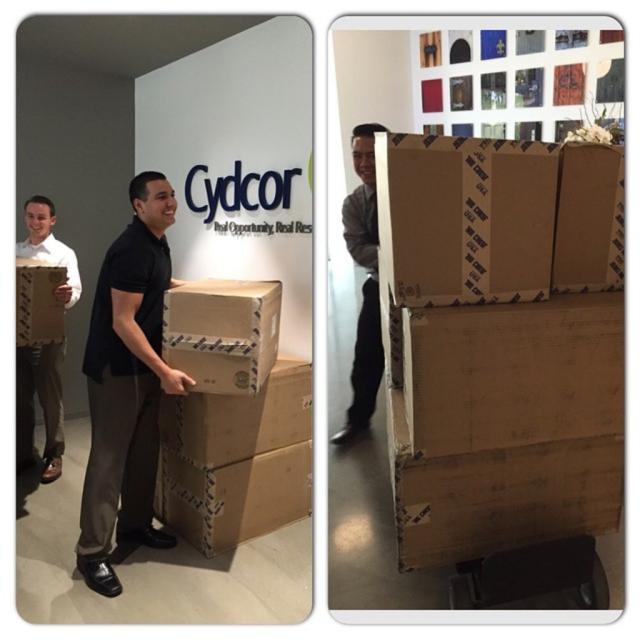Box: (386, 388, 626, 576), (397, 283, 629, 454), (374, 126, 565, 305), (160, 351, 325, 474), (155, 440, 320, 556), (164, 276, 279, 395), (551, 143, 629, 301), (12, 251, 74, 352)
